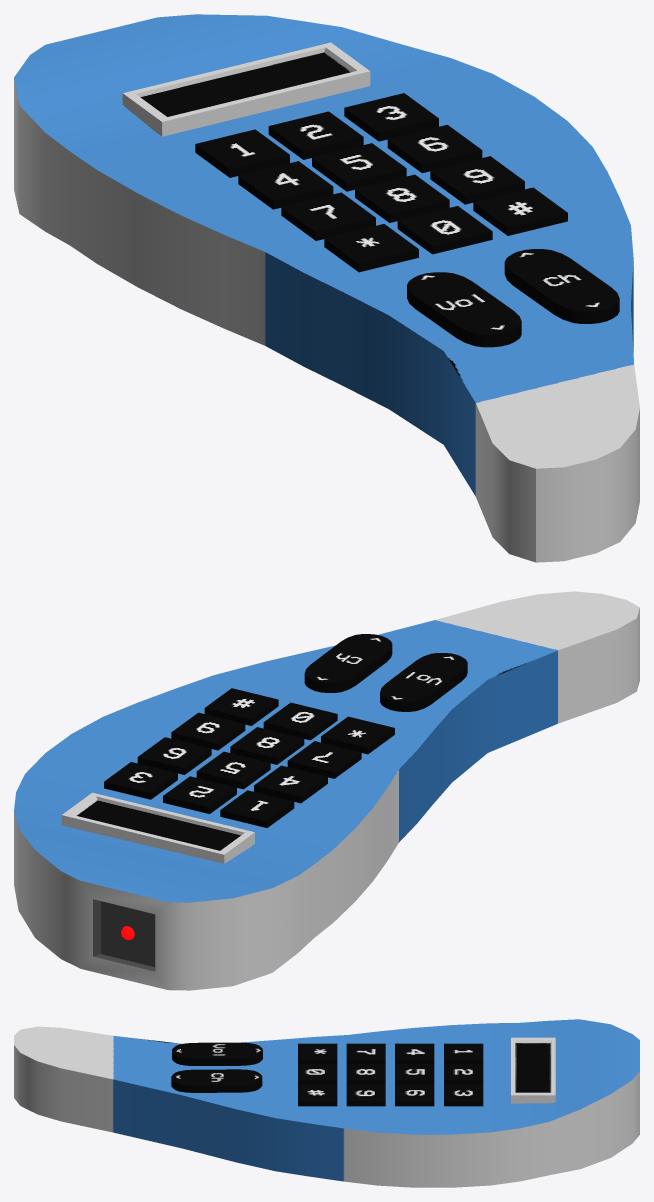
The model's file is FunnyRemote.fbx.
3 renders of one model, top to bottom at view 1: azimuth 30°, elevation 25°; view 2: azimuth 150°, elevation 25°; view 3: azimuth 270°, elevation 25°, orthographic. The views are drawn at different scales.
Parts seen in each view (by area): view 1: mainRemote, Numpad, ledscreen; view 2: mainRemote, Numpad, ledscreen; view 3: mainRemote, Numpad, ledscreen.
Part boxes in pixels (<box>): mainRemote: <box>14,14,639,562</box>; Numpad: <box>195,93,619,347</box>; ledscreen: <box>122,42,370,136</box>; mainRemote: <box>14,591,639,990</box>; Numpad: <box>104,634,467,827</box>; ledscreen: <box>61,792,254,863</box>; mainRemote: <box>14,1019,639,1187</box>; Numpad: <box>171,1042,483,1106</box>; ledscreen: <box>511,1037,555,1103</box>.
Bounding box in the file's own units: 164 × 45.55 × 387.
Materials: 4 (3 with a texture image).
